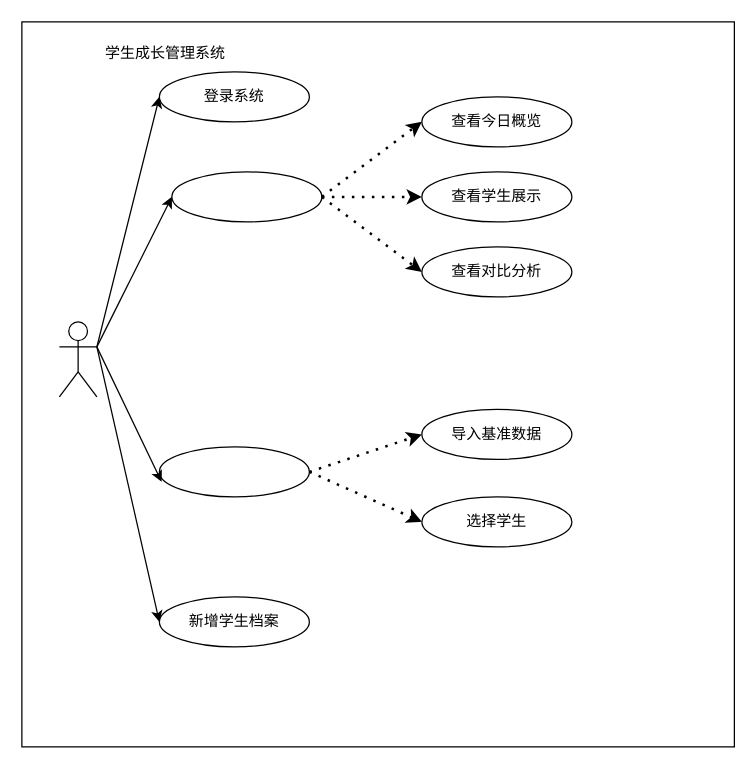
Some shapes in this 756 by 779 pixel diagram are drawn without their labels. The shapes that lost their labels are listed below. From the top down, each one's box as (x1, y1, x2, y2) in pixels, then its label:
(171, 171, 322, 222): 进入教师工作台
(58, 321, 97, 397): 教师
(158, 446, 309, 497): 执行对比分析
